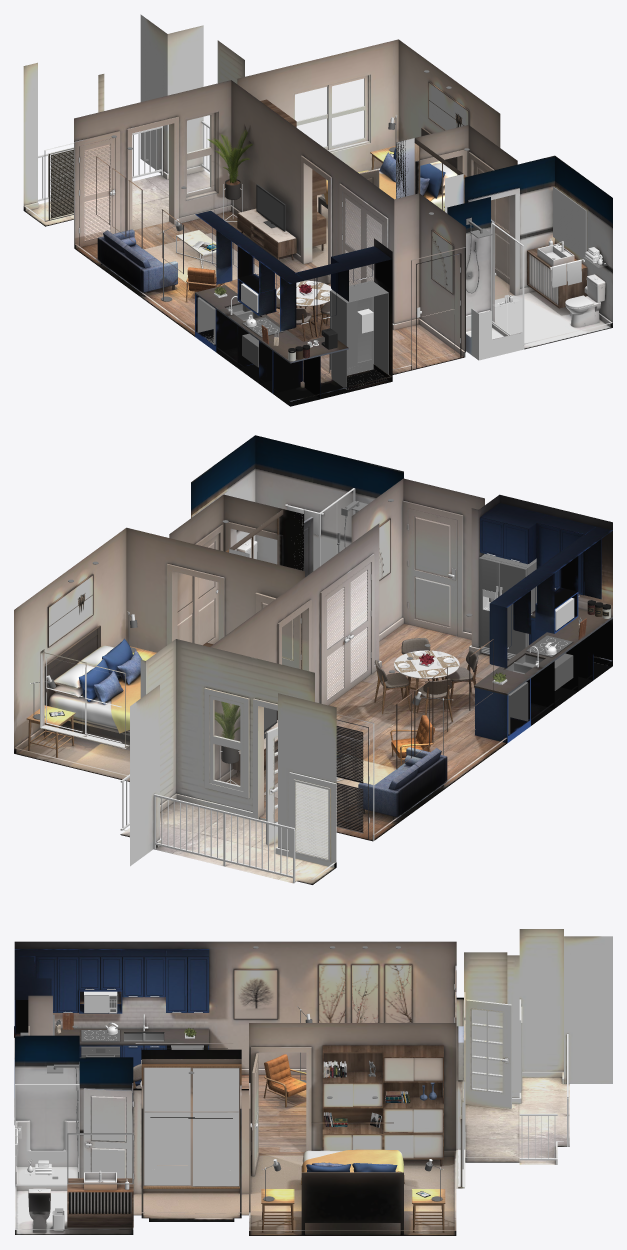
Rendered from apartamento.glb.
3 views of the same model, one above another, from view 1: azimuth 30°, elevation 25°; view 2: azimuth 150°, elevation 25°; view 3: azimuth 270°, elevation 25° (orthographic). The views are drawn at different scales.
Parts seen in each view (by area): view 1: 1_Structure, 2_Door_Windows, 3_Kitchen_Material #129_0, 3_Living Room, 3_Bathroom, 4_Kitchen_Freezer, 4_Glass (×3), 3_Bedroom, 4_Bathroom_Box, 3_Picture, 3_Closet, 4_BathRoom_Mirror_ (+5 smaller); view 2: 1_Structure, 2_Door_Windows, 3_Kitchen_Material #129_0, 3_Bedroom, 3_Living Room, 3_Picture, 2_Railing, 4_Kitchen_Freezer, 4_Glass, 4_Bathroom_Box, 4_Kitchen_WashMachine, 3_Closet (+1 smaller); view 3: 1_Structure, 3_Bedroom, 2_Door_Windows, 3_Kitchen_Material #129_0, 4_Closet_Mirror, 3_Picture, 3_Bathroom, 4_Bathroom_Box, 3_Closet, 4_Glass, 3_Living Room, 4_Kitchen_Microwave (+4 smaller).
Part boxes in pixels (x1,y1,x2,y2): 1_Structure: (23,14,612,406); 2_Door_Windows: (24,75,612,401); 3_Kitchen_Material #129_0: (195,211,391,398); 3_Living Room: (97,179,296,302); 3_Bathroom: (466,243,605,360); 4_Kitchen_Freezer: (330,280,388,389); 4_Glass (×3): (187,79,363,192); 3_Bedroom: (260,99,457,250); 4_Bathroom_Box: (491,222,524,344); 3_Picture: (96,81,469,294); 3_Closet: (396,138,466,213); 4_BathRoom_Mirror_: (553,187,586,260); 1_Structure: (14,435,612,884); 2_Door_Windows: (14,501,612,879); 3_Kitchen_Material #129_0: (394,503,612,743); 3_Bedroom: (26,625,213,757); 3_Living Room: (221,715,447,821); 3_Picture: (47,518,493,769); 2_Railing: (120,774,295,883); 4_Kitchen_Freezer: (479,554,536,659); 4_Glass: (214,700,239,785); 4_Bathroom_Box: (318,488,355,566); 4_Kitchen_WashMachine: (508,682,528,734); 3_Closet: (226,509,303,570); 1_Structure: (14,929,612,1235); 3_Bedroom: (261,1045,445,1234); 2_Door_Windows: (14,965,563,1230); 3_Kitchen_Material #129_0: (14,949,209,1097); 4_Closet_Mirror: (144,1067,238,1185); 3_Picture: (233,964,412,1123); 3_Bathroom: (15,1120,133,1232); 4_Bathroom_Box: (15,1084,79,1185); 3_Closet: (141,1059,241,1191); 4_Glass: (473,1010,501,1091); 3_Living Room: (263,1054,306,1107); 4_Kitchen_Microwave: (84,991,117,1013).
Size of the model in its own units: 7.7 by 3.28 by 12.05.
Materials: 40 (23 with a texture image).
